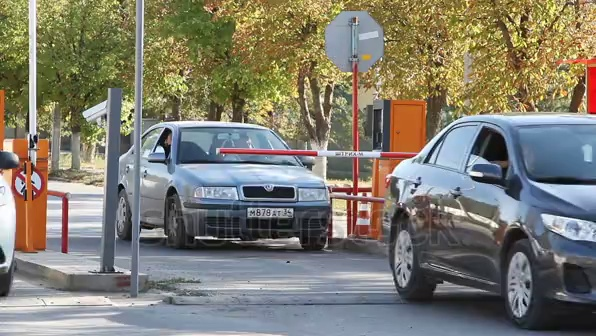licenseplate: (242, 204, 299, 222)
